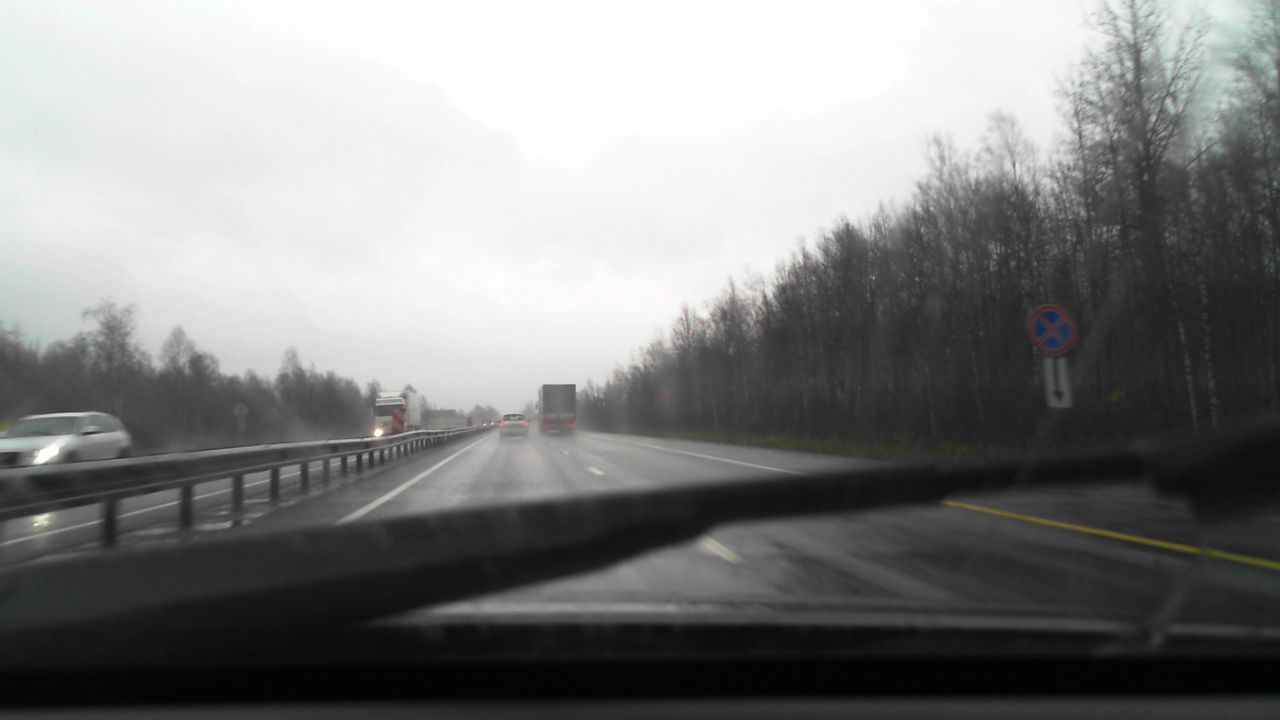No Parking: (1026, 304, 1077, 354)
